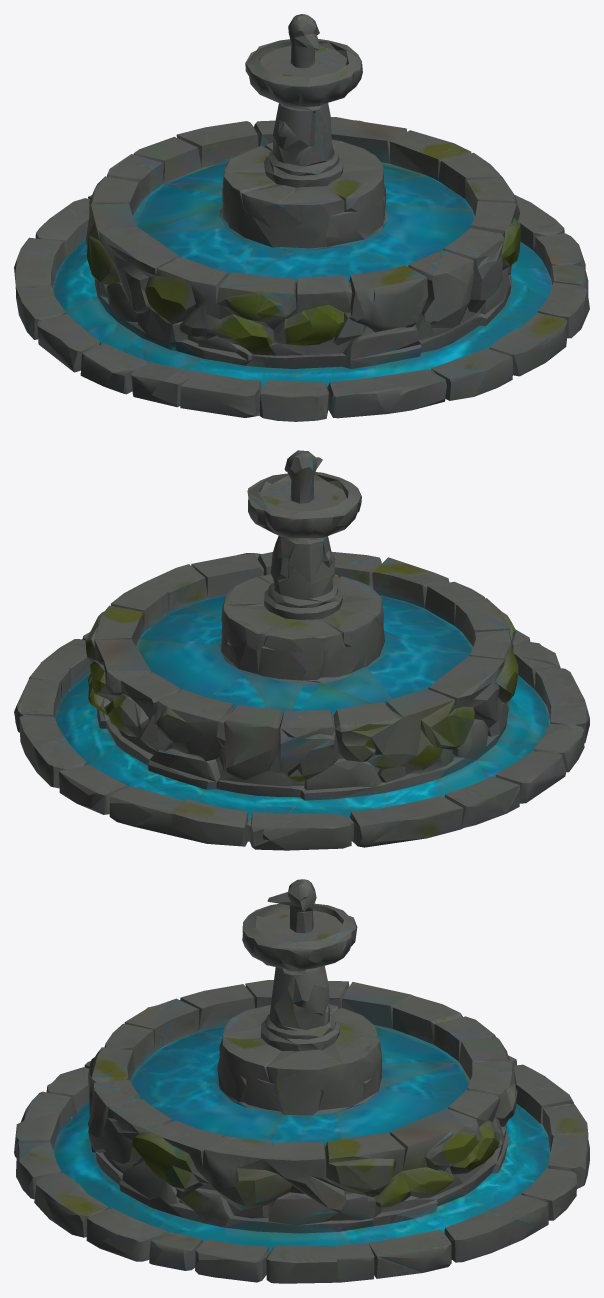
File: fountain.glb
The picture shows the model from 3 angles, top to bottom: view 1: azimuth 30°, elevation 25°; view 2: azimuth 150°, elevation 25°; view 3: azimuth 270°, elevation 25°; orthographic projection.
Size of the model in its own units: 1.9 by 1.03 by 1.9.
1 material, 1 textured.
